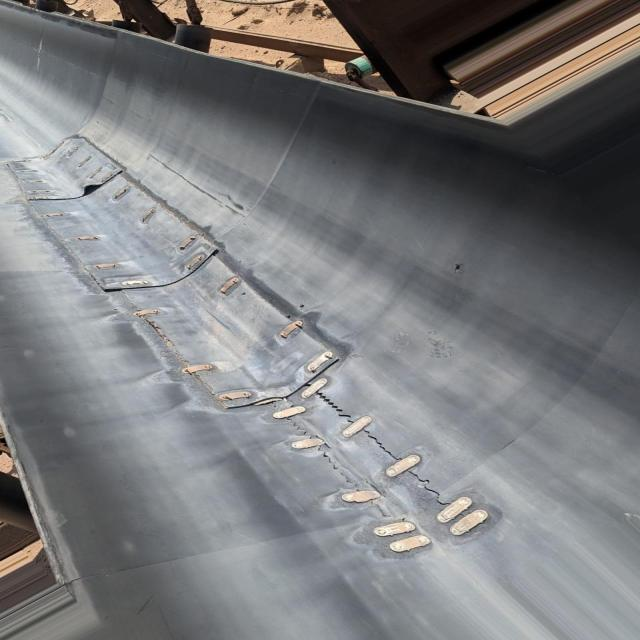patch work: (7, 136, 500, 562)
